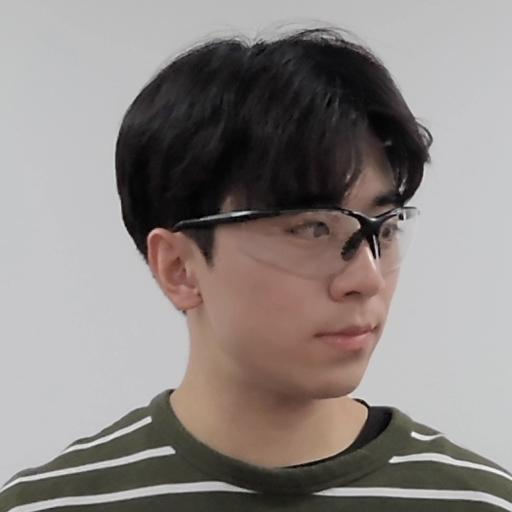glasses: (115, 32, 443, 418)
